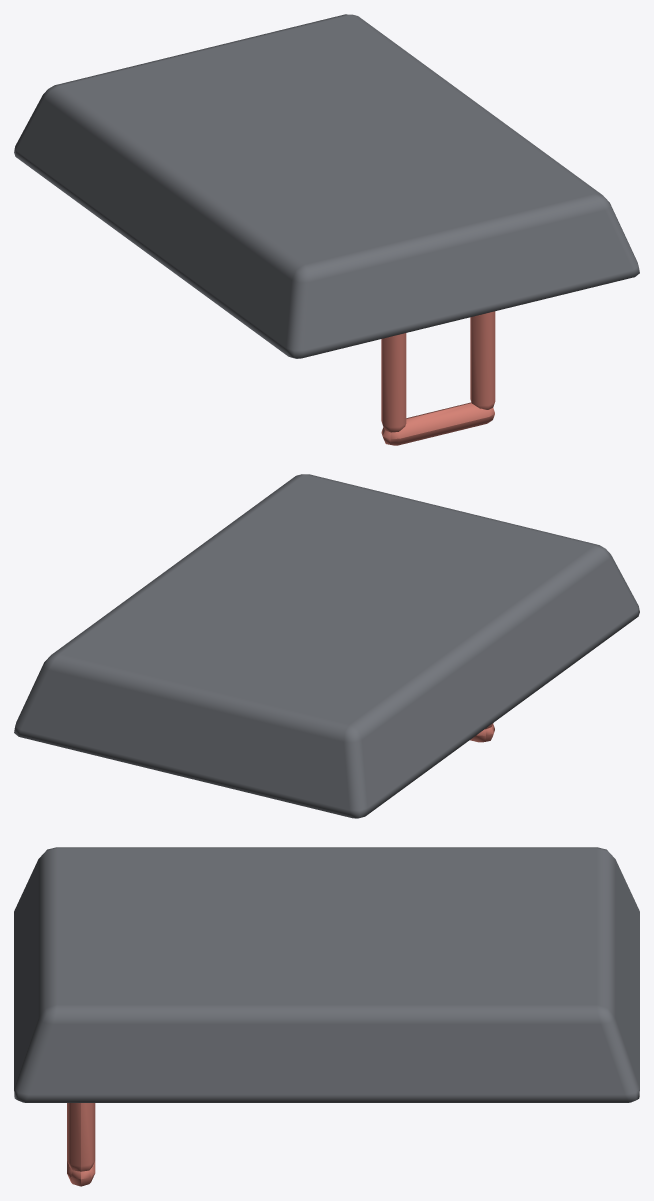
The model's file is att_mag_speed.glb.
The picture shows the model from 3 angles, top to bottom: view 1: azimuth 30°, elevation 25°; view 2: azimuth 150°, elevation 25°; view 3: azimuth 270°, elevation 25°; orthographic projection. The views are drawn at different scales.
Parts seen in each view (by area): view 1: MagSpeed; view 2: MagSpeed; view 3: MagSpeed.
Part boxes in pixels (x1,y1,x2,y2): MagSpeed: [14, 14, 639, 445]; MagSpeed: [14, 474, 639, 818]; MagSpeed: [14, 847, 639, 1186].
Size of the model in its own units: 0.0474 by 0.0275 by 0.0662.
